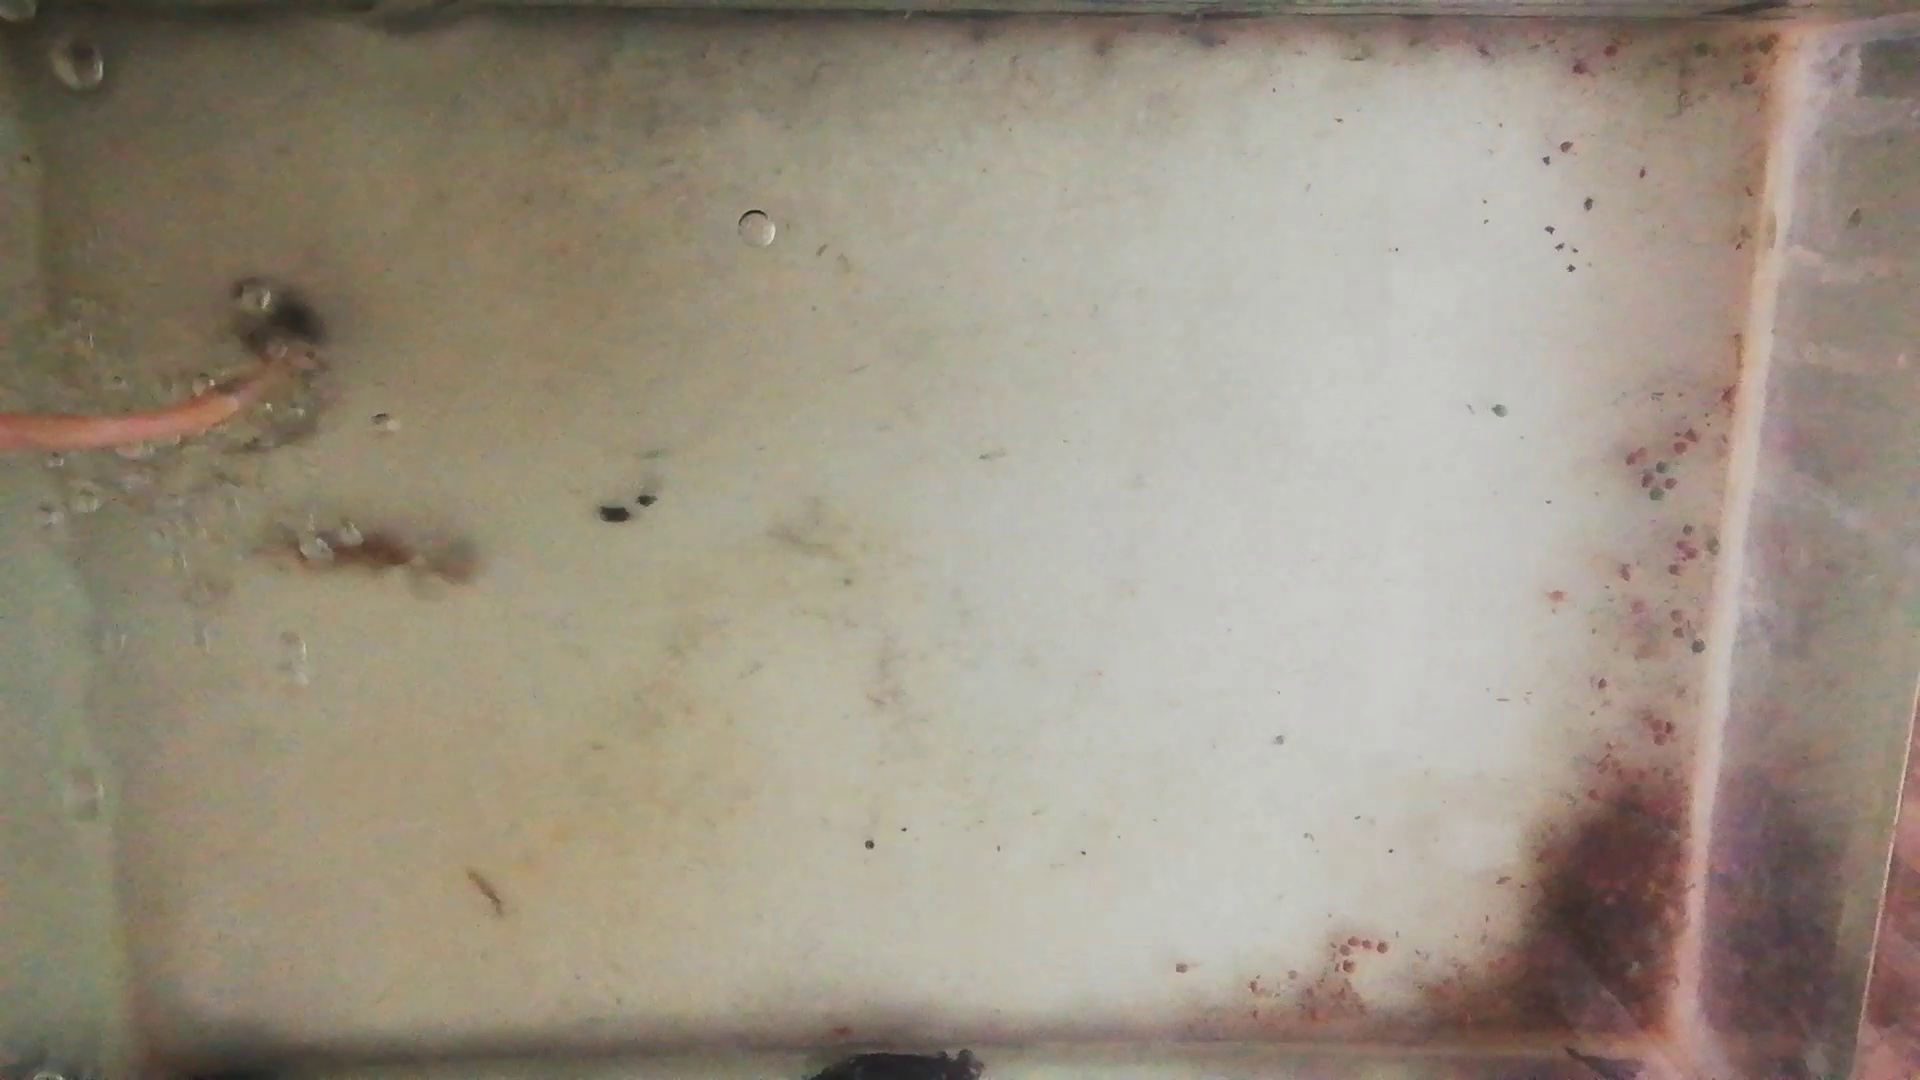fish: (243, 522, 477, 597), (199, 385, 338, 458)
